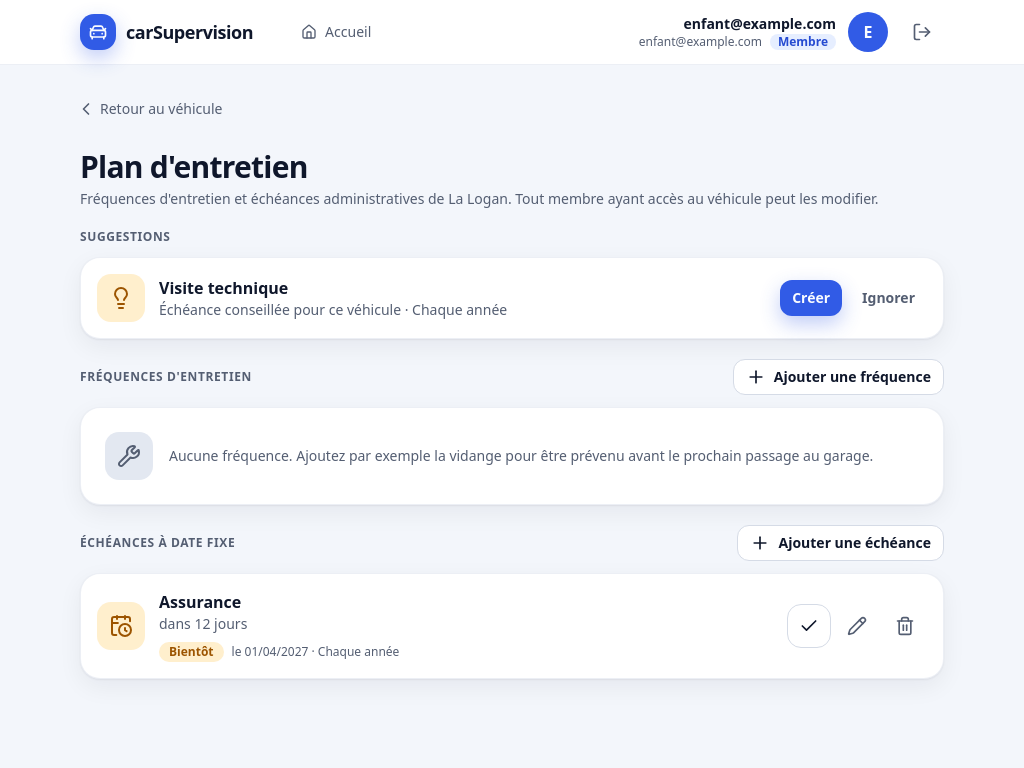
Test: plan d’entretien › marque une échéance comme faite et annonce la suivante
Check: the text "Visite technique" is shown, box [159,276,288,300]
Click the button named "Marquer Assurance comme faite". click: (809, 626)
box: [787,604,831,648]
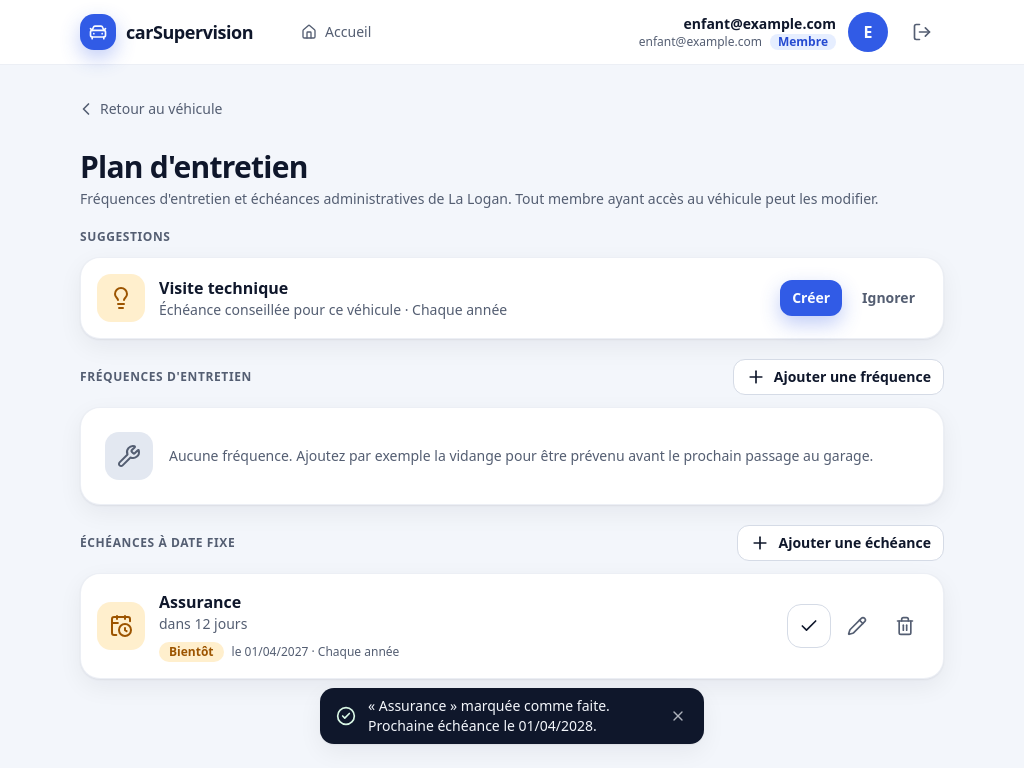
Check: the text "« Assurance » marquée comme faite. Prochaine échéance le 01/04/2028." is shown, box [368,696,648,736]
